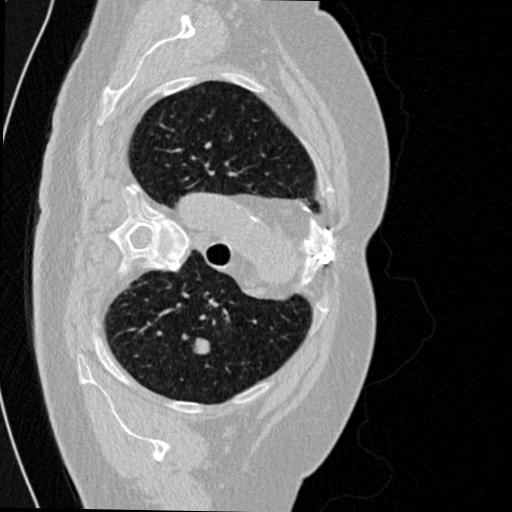nodule: (192, 338, 215, 361)
